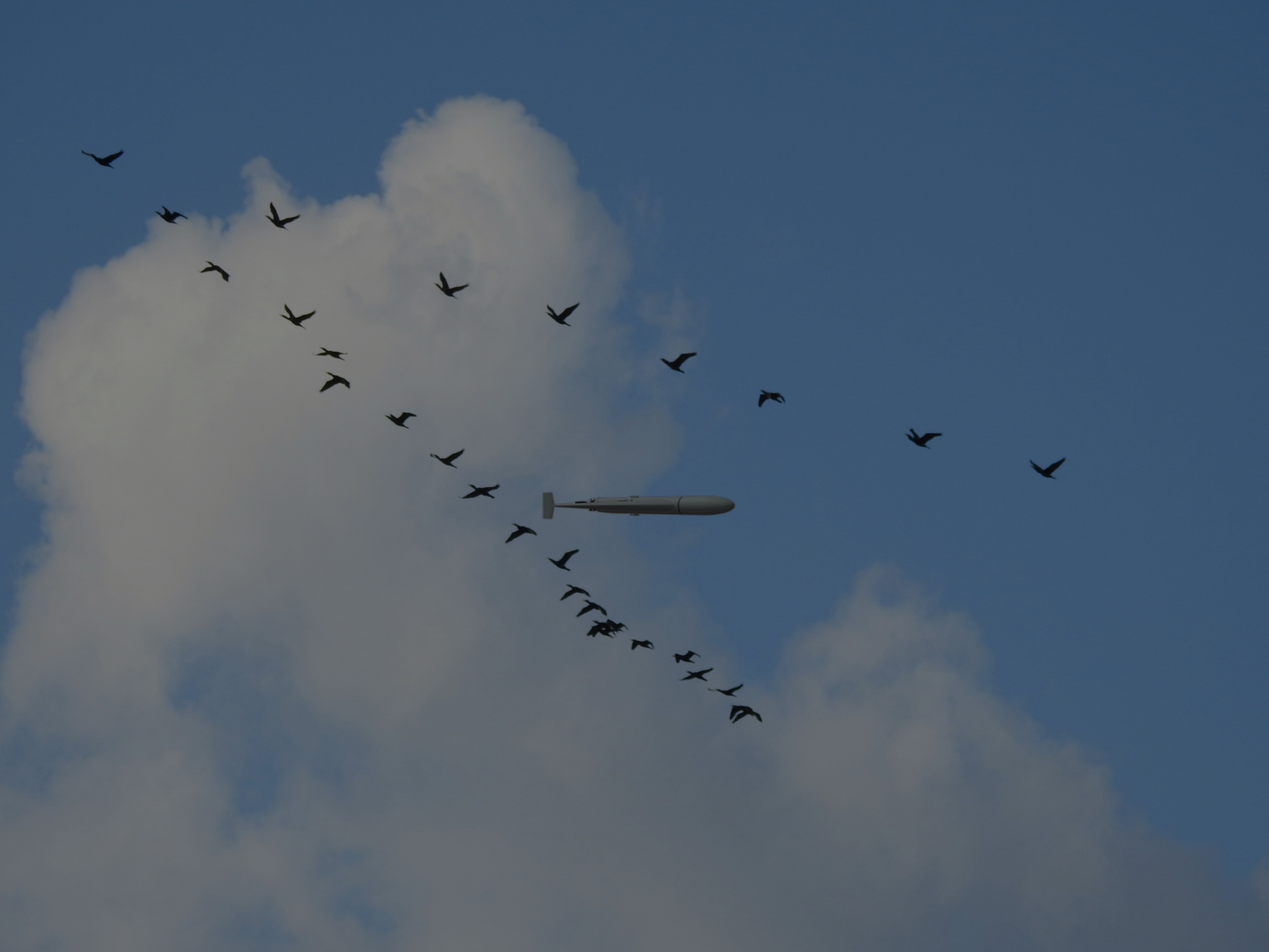shahed: (536, 487, 738, 526)
